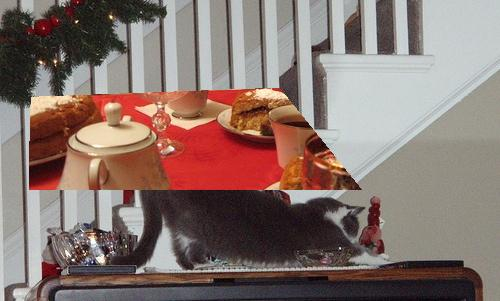tampered: (30, 89, 362, 190)
